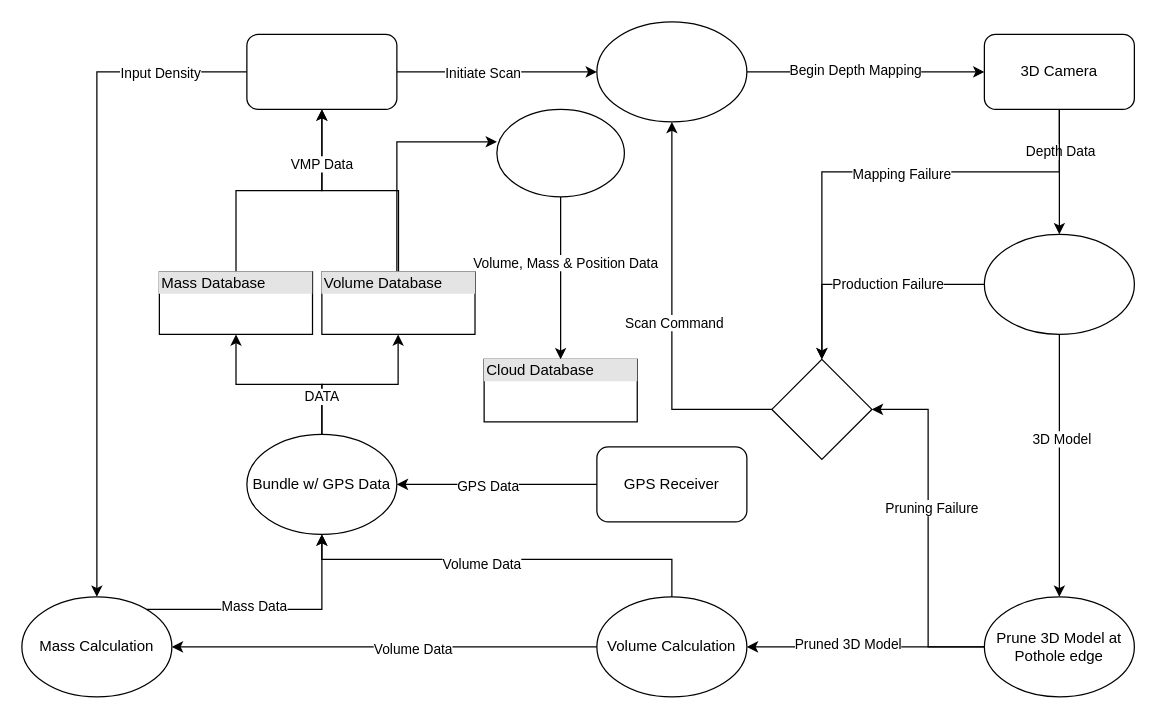
This 1156x719 diagram has some shape labels left out. Here are the shapes that lost their labels. From the top down, the centre of each, then its label:
At point 321,71: "User".
At point 671,71: "Scan Pothole".
At point 560,152: "Detect Network Connection".
At point 1058,283: "Produce 3D Model".
At point 821,408: "Initiate Rescan".
